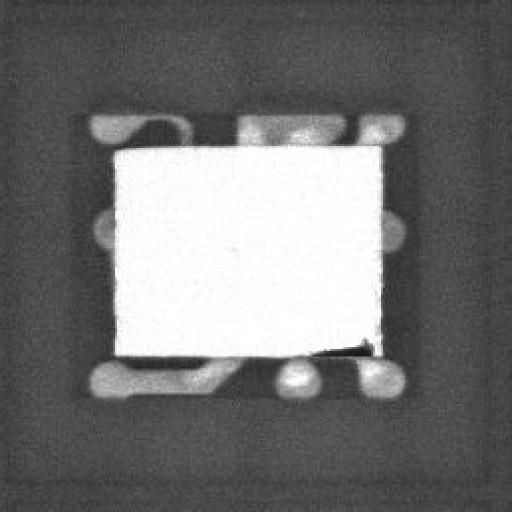DIE_BROKEN: (308, 336, 375, 354)
